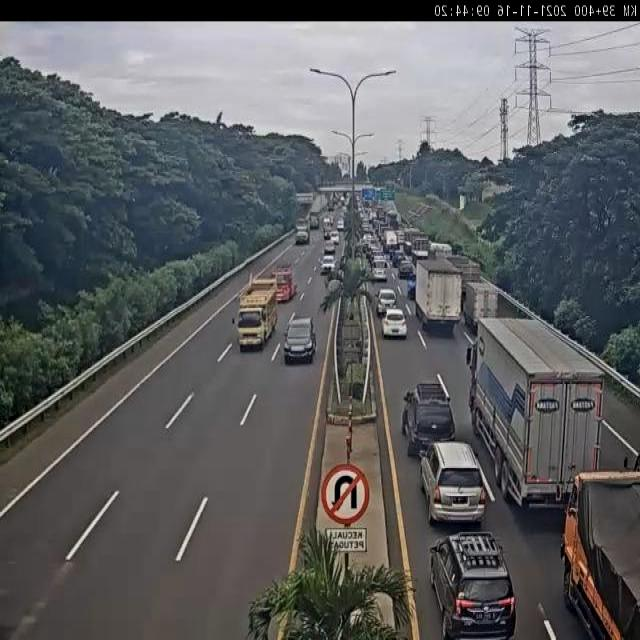Car: (429, 530, 516, 640), (419, 440, 487, 526), (399, 380, 461, 457), (283, 315, 317, 364), (381, 307, 408, 339), (376, 288, 398, 316), (321, 254, 336, 274), (398, 259, 413, 279), (392, 248, 405, 266), (324, 240, 336, 255), (330, 230, 340, 244), (336, 218, 344, 232)
Truck: (470, 318, 606, 508), (552, 462, 640, 638), (414, 257, 463, 335), (232, 275, 279, 351), (464, 280, 500, 332), (446, 252, 484, 295), (270, 263, 299, 304), (411, 235, 430, 263), (403, 229, 421, 257), (430, 240, 453, 261), (383, 229, 401, 253), (294, 217, 310, 244), (308, 210, 321, 230), (395, 230, 405, 252), (387, 210, 399, 227), (328, 202, 334, 212)
Van: (372, 254, 389, 282)
